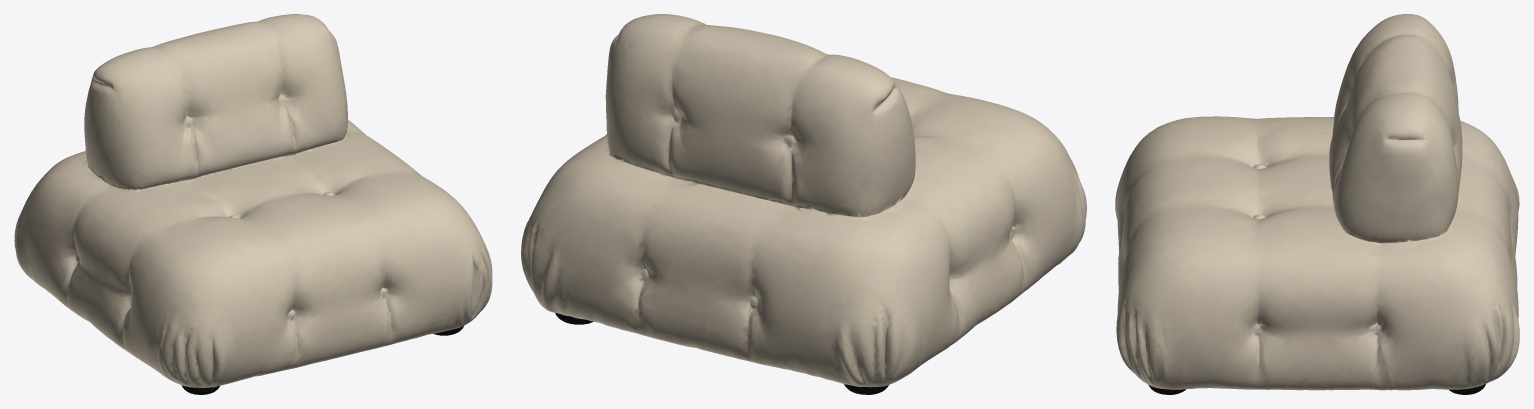
Rendered from fm_armchair_boucle.glb.
3 renders of one model, left to right at view 1: azimuth 30°, elevation 25°; view 2: azimuth 150°, elevation 25°; view 3: azimuth 270°, elevation 25°, orthographic. The views are drawn at different scales.
Parts seen in each view (by area): view 1: geometry_0; view 2: geometry_0; view 3: geometry_0.
Boxes of the visible parts, left/top/right/bottom form: geometry_0: left=14, top=14, right=492, bottom=394; geometry_0: left=521, top=14, right=1086, bottom=394; geometry_0: left=1115, top=14, right=1519, bottom=394.
Bounding box in the file's own units: 1 × 0.7175 × 0.9876.
1 material, 1 textured.
